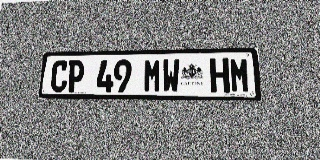4: (96, 60, 114, 92)
9: (113, 59, 132, 92)
C: (50, 60, 69, 92)
H: (210, 58, 230, 93)
M: (229, 57, 251, 93), (143, 59, 161, 92)
P: (66, 60, 85, 92)
W: (162, 59, 180, 93)
